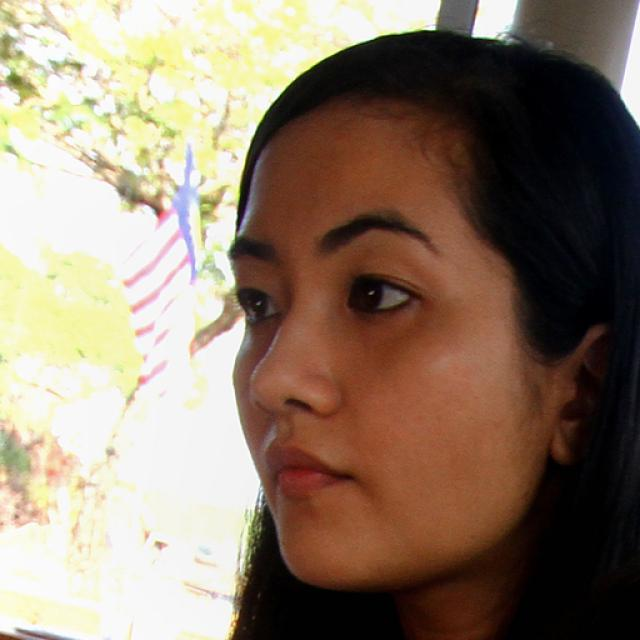neutral: (230, 89, 549, 585)
